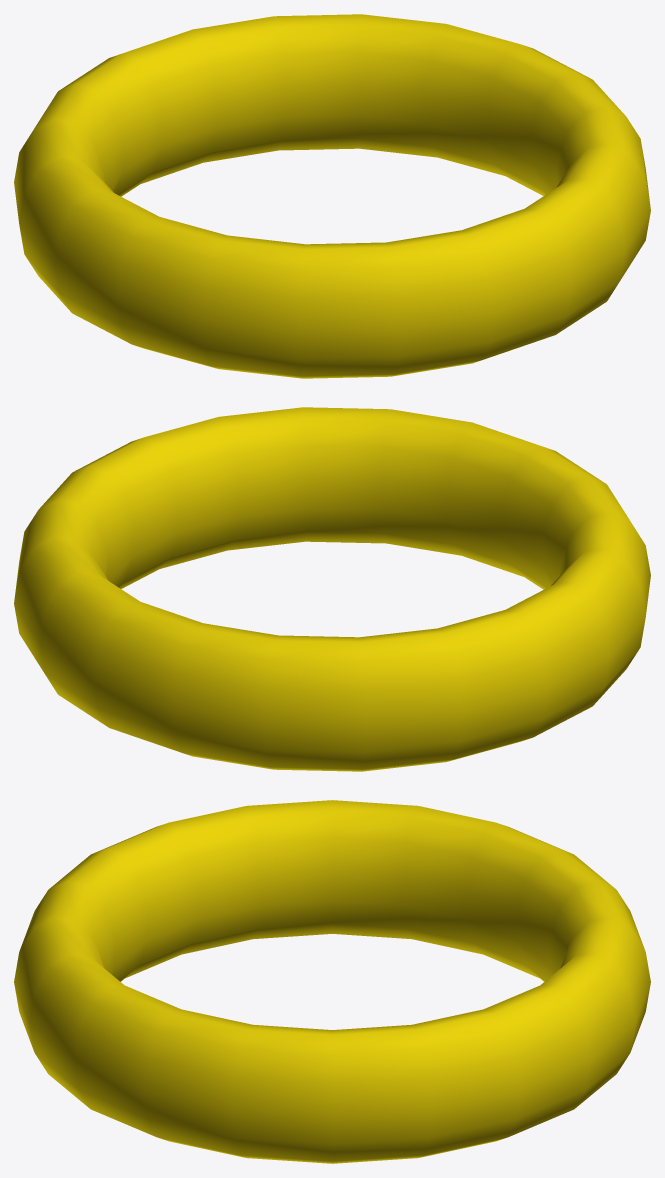
File: Ring.fbx
The picture shows the model from 3 angles, top to bottom: view 1: azimuth 30°, elevation 25°; view 2: azimuth 150°, elevation 25°; view 3: azimuth 270°, elevation 25°; orthographic projection.
Parts seen in each view (by area): view 1: Torus; view 2: Torus; view 3: Torus.
Boxes of the visible parts, left/top/right/bottom form: Torus: left=14, top=14, right=650, bottom=378; Torus: left=14, top=407, right=650, bottom=771; Torus: left=14, top=800, right=650, bottom=1163.
Size of the model in its own units: 364 by 80.93 by 364.
